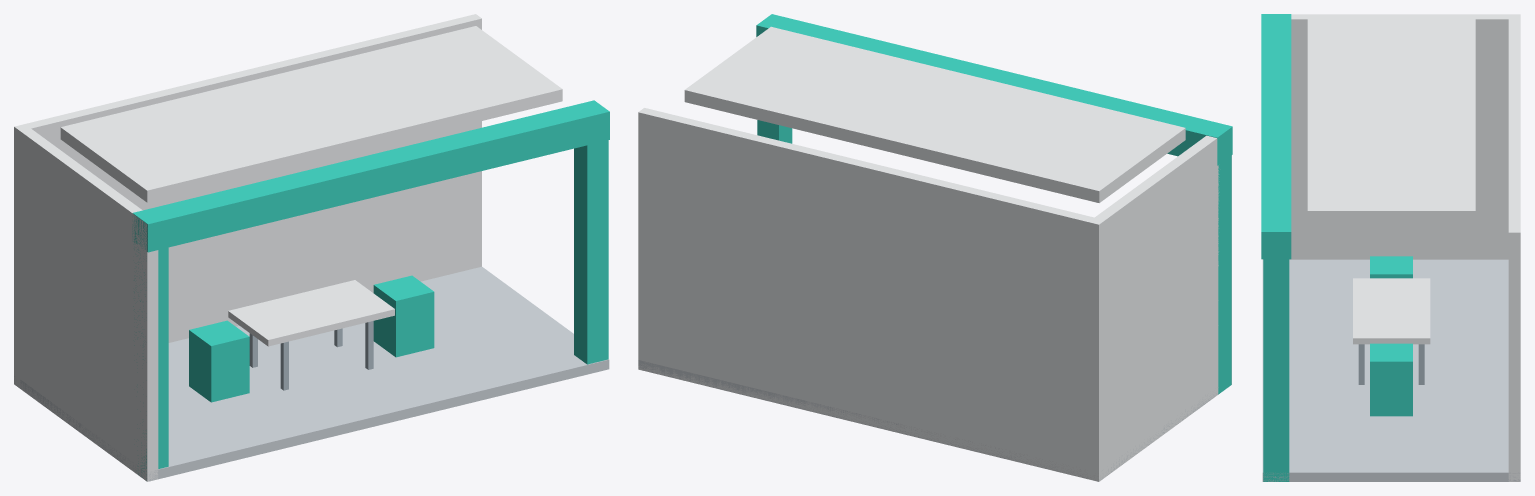
3 renders of one model, left to right at view 1: azimuth 30°, elevation 25°; view 2: azimuth 150°, elevation 25°; view 3: azimuth 270°, elevation 25°, orthographic. The views are drawn at different scales.
Visible parts, largest first — view 1: Exhibition Booth Concept; view 2: Exhibition Booth Concept; view 3: Exhibition Booth Concept.
Boxes of the visible parts, left/top/right/bottom form: Exhibition Booth Concept: left=14, top=14, right=609, bottom=481; Exhibition Booth Concept: left=638, top=14, right=1232, bottom=481; Exhibition Booth Concept: left=1261, top=14, right=1520, bottom=481.
Size of the model in its own units: 6 by 3.34 by 3.01.
